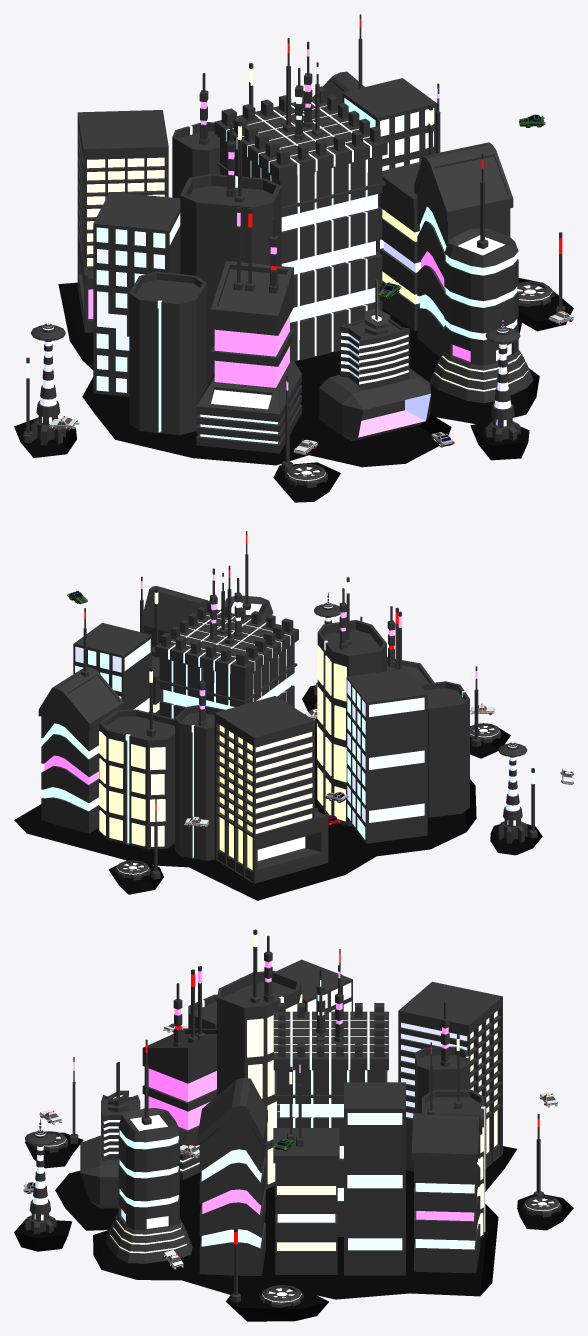
Rendered from sifi_island.glb.
3 views of the same model, one above another, from view 1: azimuth 30°, elevation 25°; view 2: azimuth 150°, elevation 25°; view 3: azimuth 270°, elevation 25° (orthographic). The views are drawn at different scales.
Visible parts, largest first — view 1: Cube_15, Plane_14, Cube.026_11; view 2: Cube_15, Plane_14, Cube.026_11; view 3: Cube_15, Plane_14, Cube.026_11.
Boxes of the visible parts, bbox=[...] form: Cube_15: bbox=[30, 71, 554, 487]; Plane_14: bbox=[14, 278, 573, 502]; Cube.026_11: bbox=[23, 14, 565, 473]; Cube_15: bbox=[38, 586, 527, 883]; Plane_14: bbox=[14, 685, 542, 900]; Cube.026_11: bbox=[81, 531, 537, 879]; Cube_15: bbox=[24, 959, 561, 1307]; Plane_14: bbox=[14, 1132, 573, 1321]; Cube.026_11: bbox=[39, 929, 543, 1302].
Bounding box in the file's own units: 18.68 × 9.72 × 17.99.
Materials: 15 (2 with a texture image).
